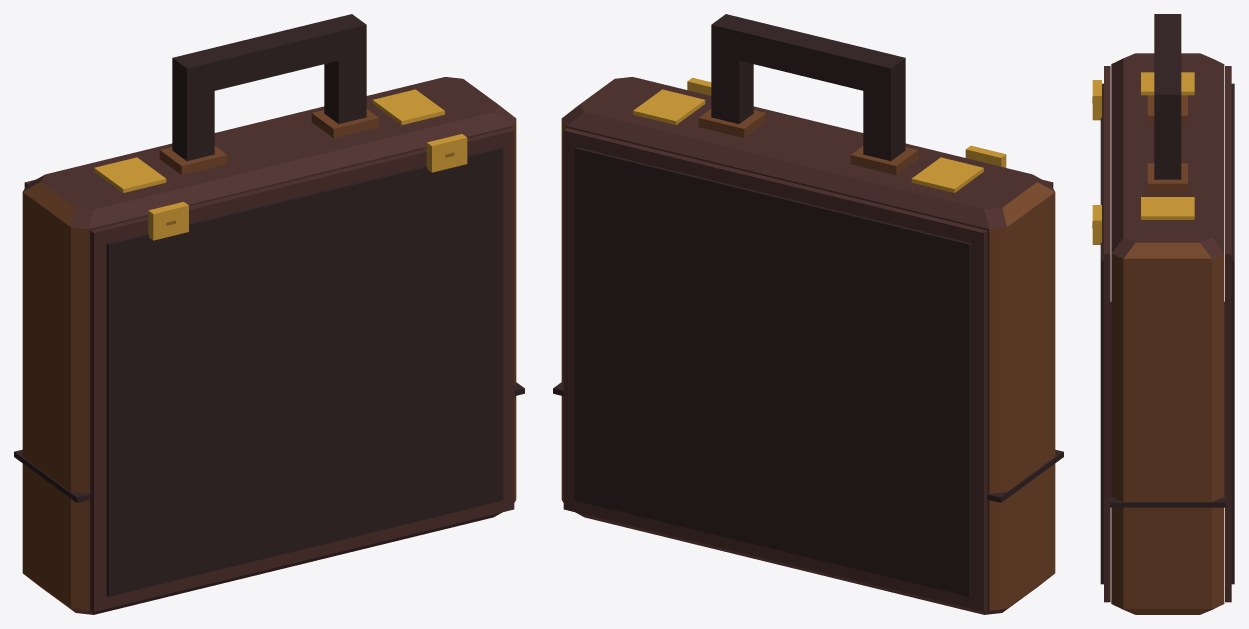
Rendered from OfficeDad_Briefcase.fbx.
The picture shows the model from 3 angles, left to right: view 1: azimuth 30°, elevation 25°; view 2: azimuth 150°, elevation 25°; view 3: azimuth 270°, elevation 25°; orthographic projection. The views are drawn at different scales.
Visible parts, largest first — view 1: Briefcase_Geo.001; view 2: Briefcase_Geo.001; view 3: Briefcase_Geo.001.
Part boxes in pixels (x1,y1,x2,y2): Briefcase_Geo.001: (14, 14, 524, 614); Briefcase_Geo.001: (553, 14, 1063, 614); Briefcase_Geo.001: (1092, 14, 1234, 614).
Size of the model in its own units: 1.77 by 1.92 by 0.531.
1 material, 1 textured.
